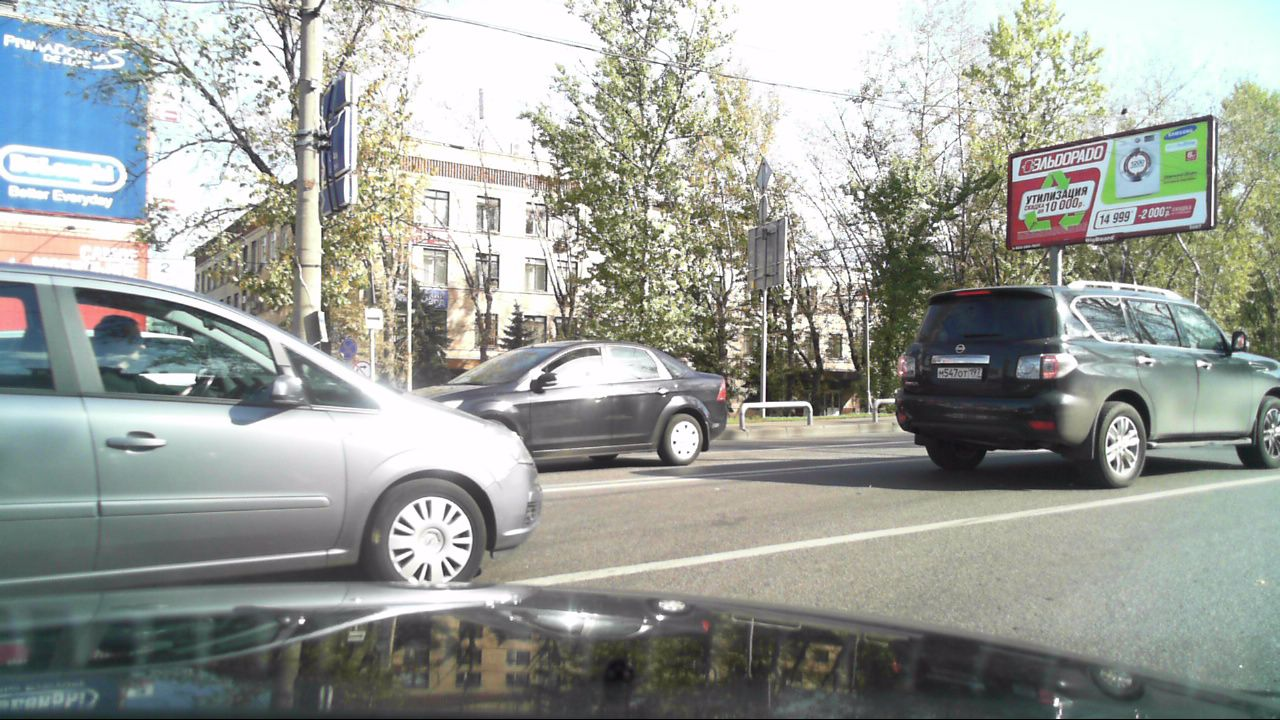No Parking: (340, 333, 358, 358)
